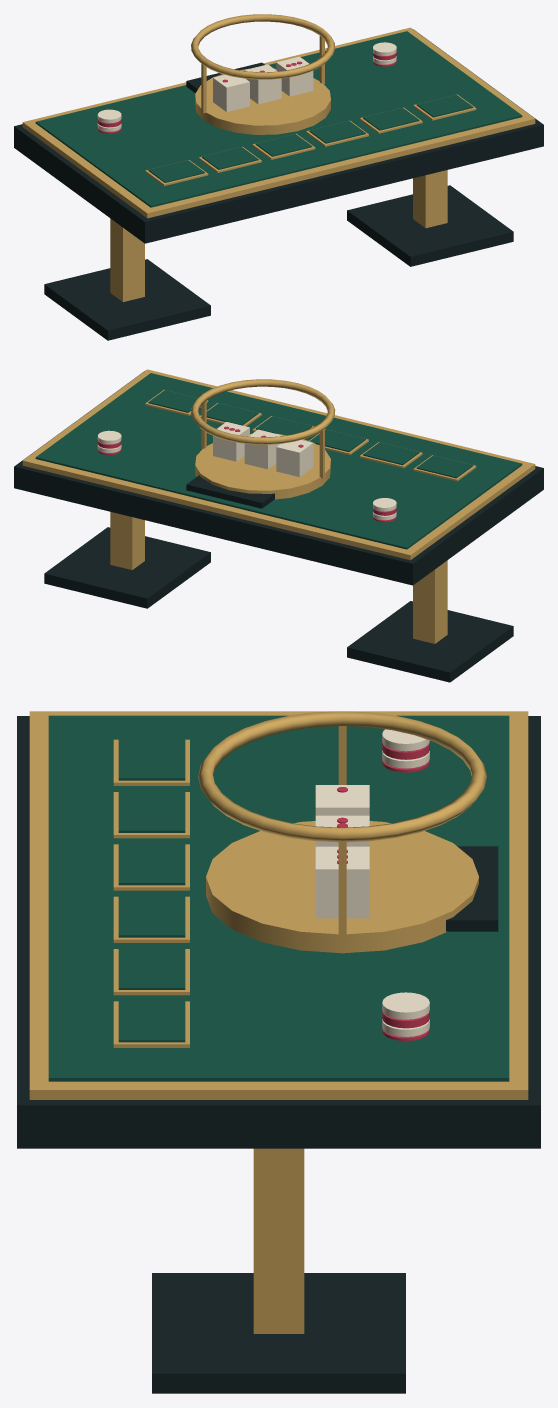
Rendered from sicbo.glb.
3 renders of one model, top to bottom at view 1: azimuth 30°, elevation 25°; view 2: azimuth 150°, elevation 25°; view 3: azimuth 270°, elevation 25°, orthographic. The views are drawn at different scales.
Bounding box in the file's own units: 2.95 × 1.48 × 1.65.
